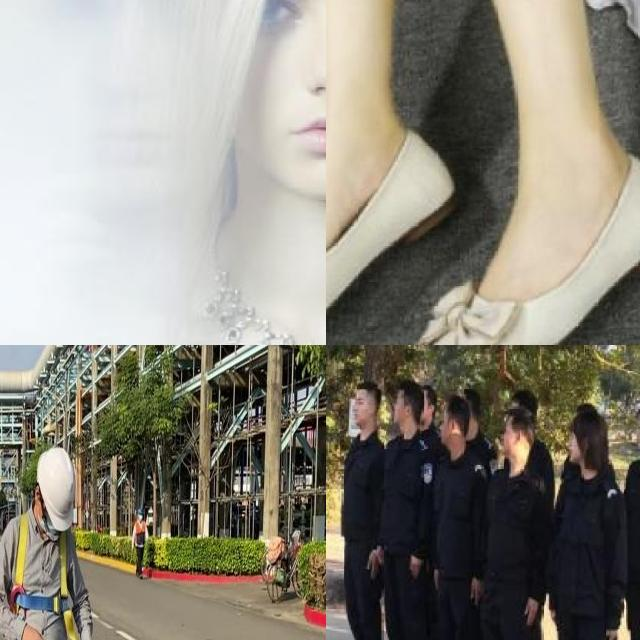Harness: (11, 513, 81, 640)
Sandals: (414, 58, 640, 345), (326, 94, 459, 345)
face_nomask: (205, 0, 326, 195), (346, 391, 374, 427)
hand_noglove: (522, 597, 538, 625), (469, 579, 483, 605), (408, 554, 422, 579), (366, 548, 378, 577), (431, 566, 442, 588), (604, 624, 618, 640), (549, 606, 557, 624), (375, 546, 383, 562)
head_nohelmet: (563, 419, 608, 443), (512, 388, 540, 417), (502, 407, 528, 431), (395, 378, 417, 403), (346, 382, 378, 399), (441, 399, 463, 422), (578, 403, 600, 419), (462, 388, 482, 405)
person: (83, 0, 326, 345), (549, 424, 624, 640), (326, 383, 387, 640), (487, 409, 549, 640), (435, 398, 490, 640), (387, 388, 430, 640)
